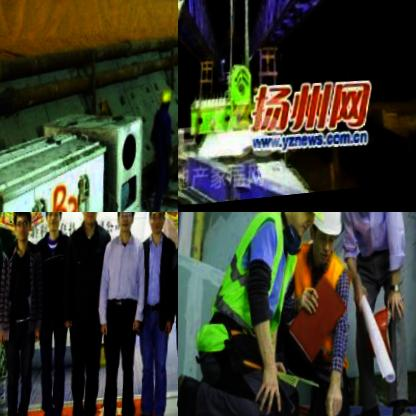head: (10, 212, 30, 244), (112, 212, 134, 237), (146, 212, 164, 240), (79, 212, 101, 231), (42, 212, 60, 234)
helmet: (308, 212, 346, 263), (275, 212, 330, 240), (158, 89, 173, 116)
